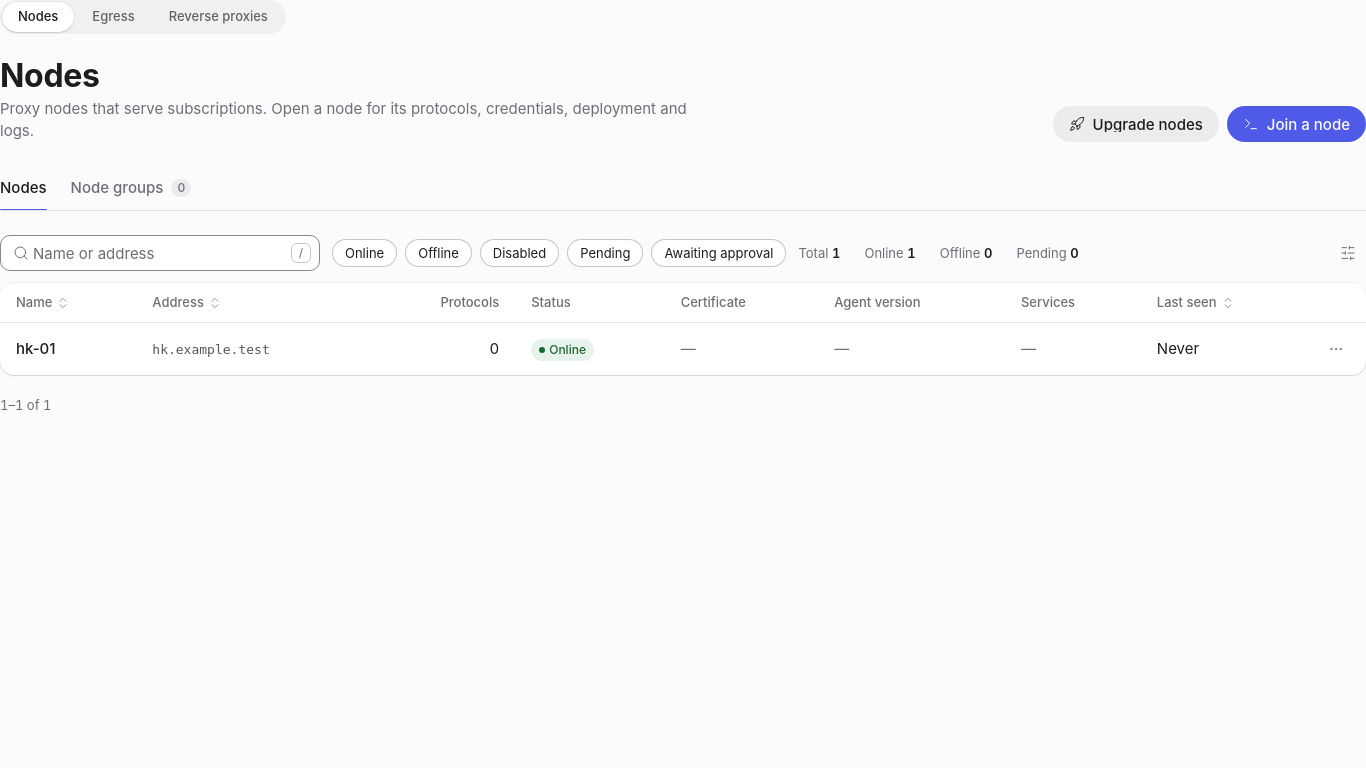
Test case: Nodes dialogs and feedback › keeps a failed node delete inside the confirmation
This screenshot has width=1366, height=768.
Click the button named "Actions for hk-01" at (1336, 349), box [1322, 335, 1350, 363]
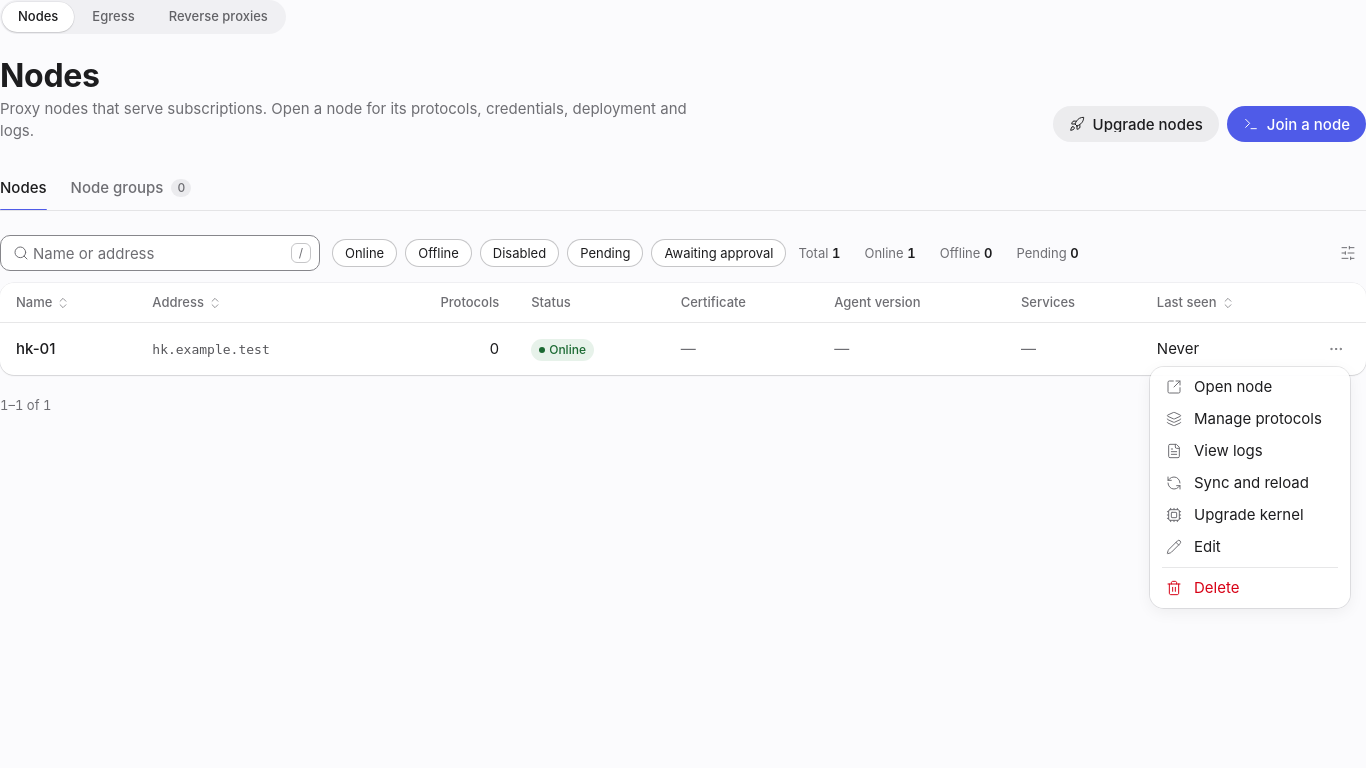
Click the menu item "Delete" at (1203, 588), box [1166, 578, 1240, 597]
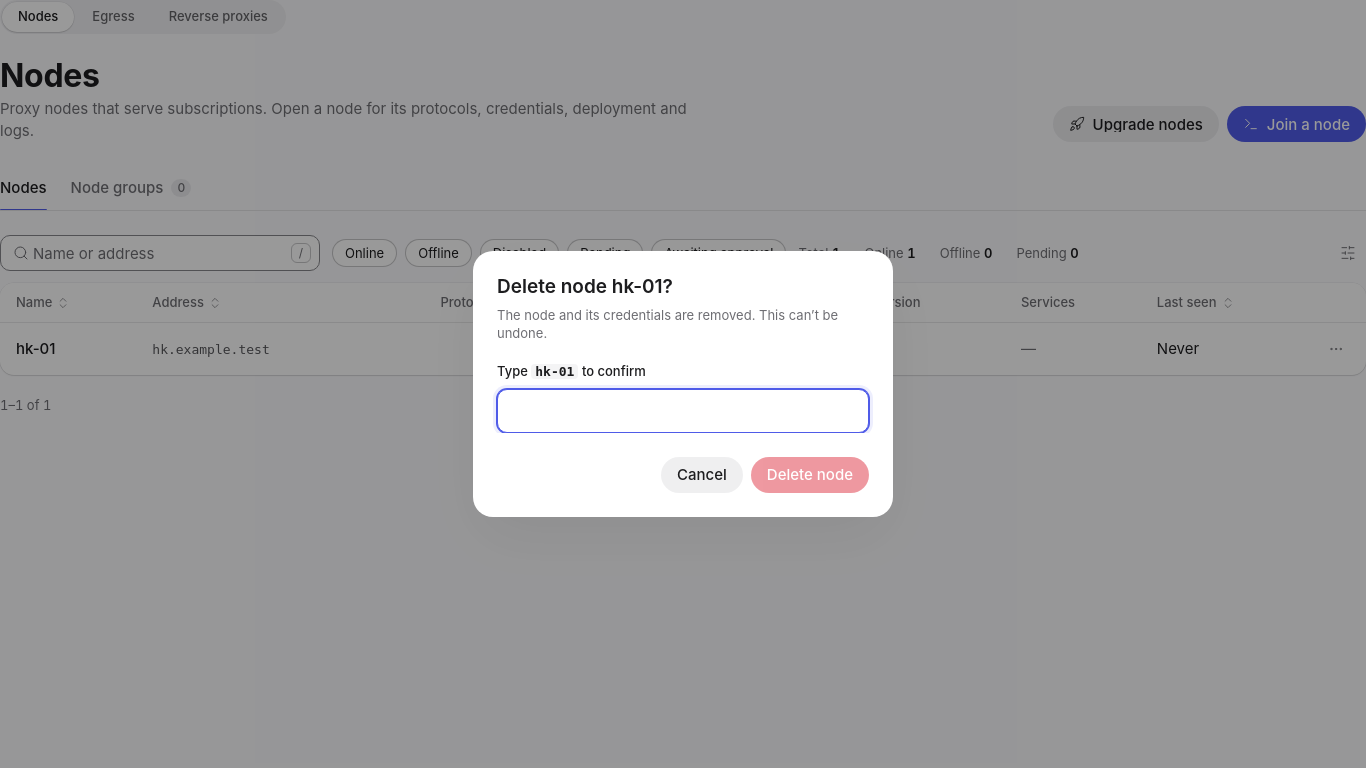
Type "hk-01" into the field at (683, 411), box [498, 390, 868, 432]
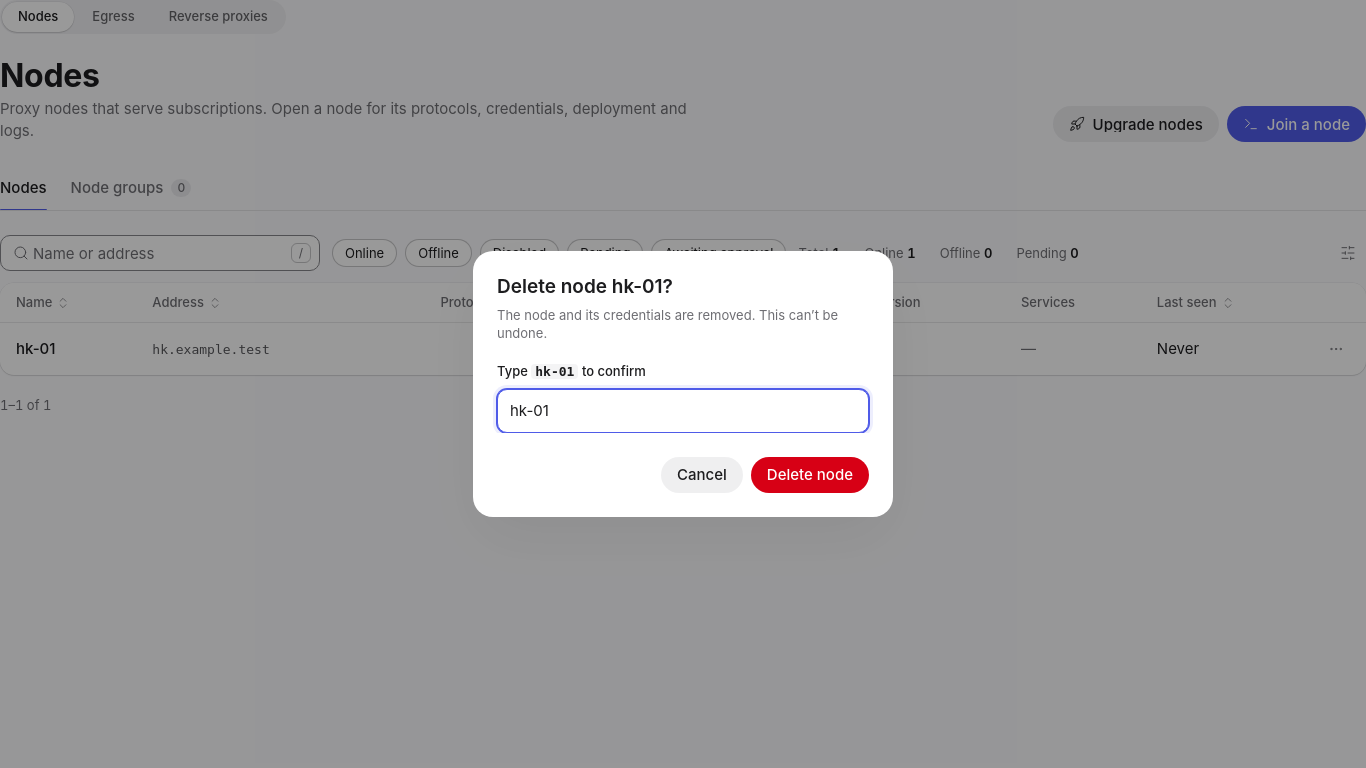
Click the button "Delete node" at (810, 475), box [751, 457, 869, 493]
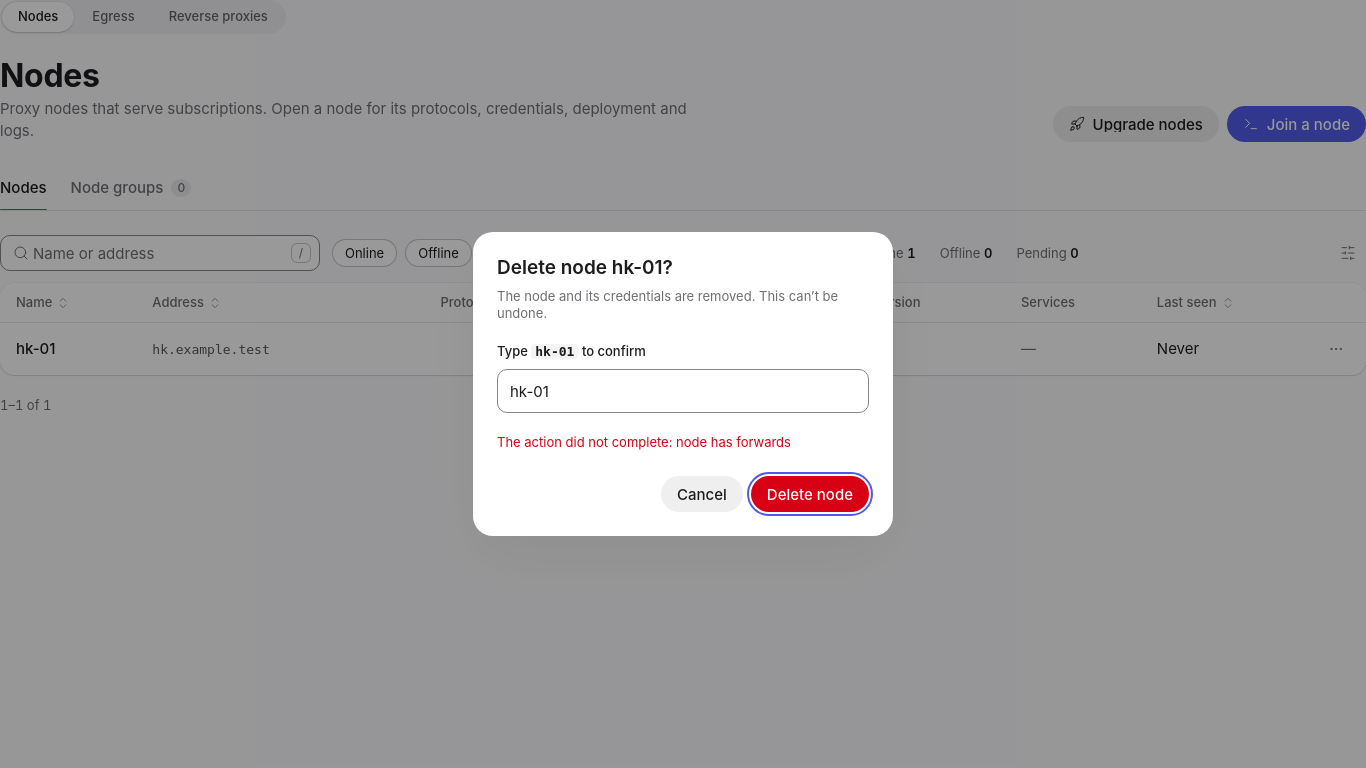
Check: the message shows "node has forwards", box [497, 434, 791, 450]
